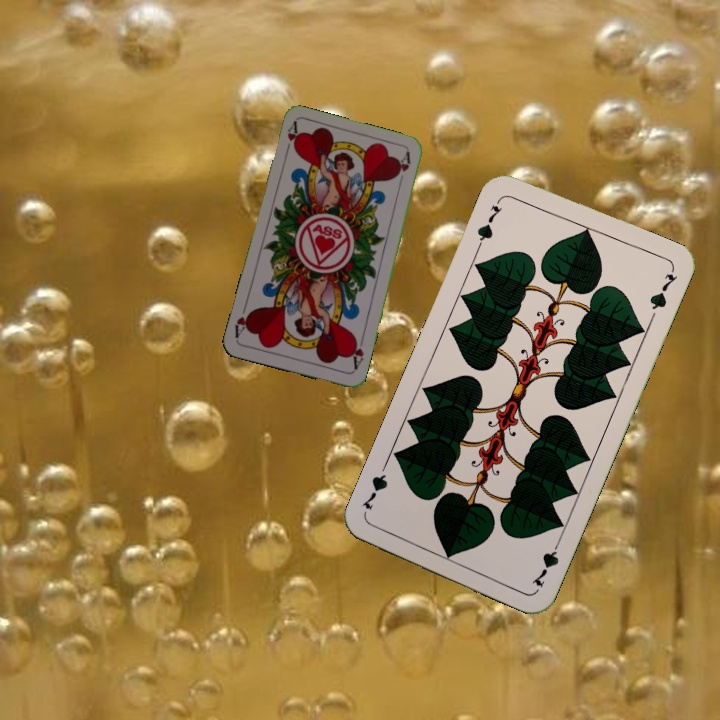G7: (527, 534, 564, 590), (473, 194, 506, 250)
HA: (281, 119, 302, 159), (347, 333, 367, 373)
